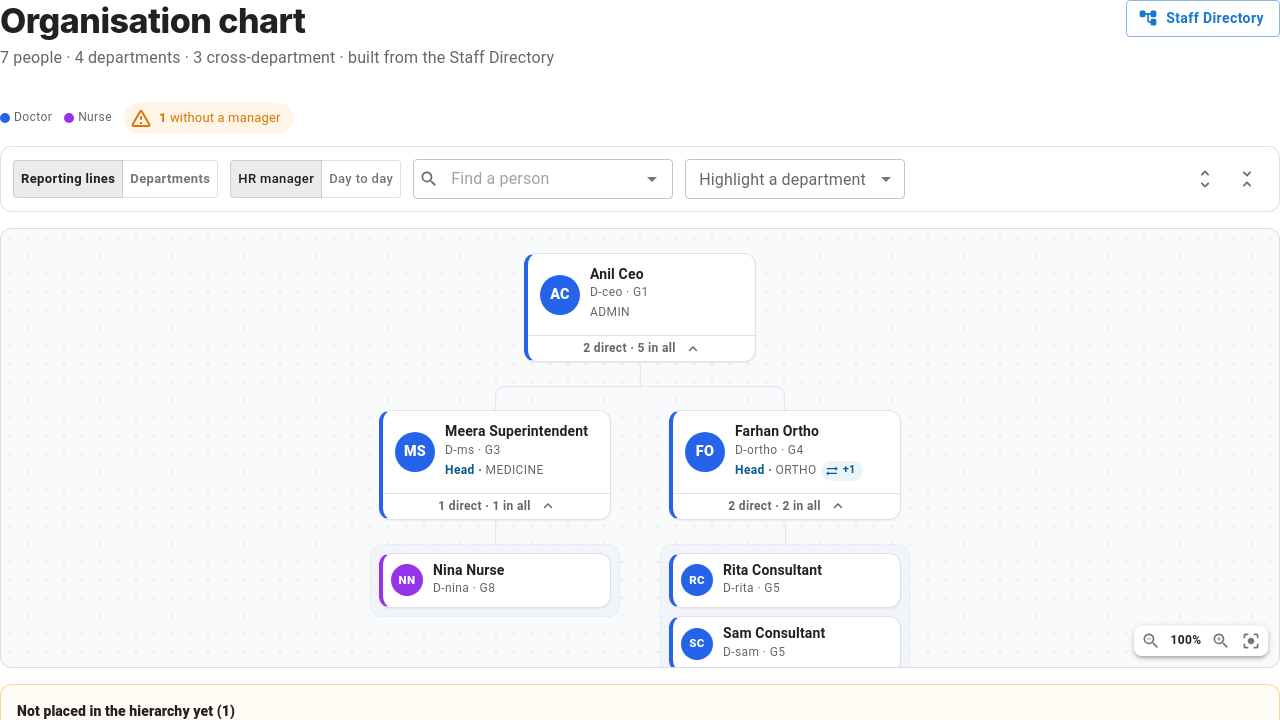
the organisation chart page › draws the chart, lists who is not placed, and finds a person
Expected: the button with aria-label "Anil Ceo, D-ceo" is shown, x1=524 y1=253 x2=756 y2=362
Expected: the heading "Not placed in the hierarchy yet (1)" is shown, x1=17 y1=703 x2=235 y2=719
# Close everything, then find Rita: the way down to her opens again.
Click the button named "Close to the tops". click: (1247, 179)
box: x1=1227 y1=159 x2=1267 y2=199
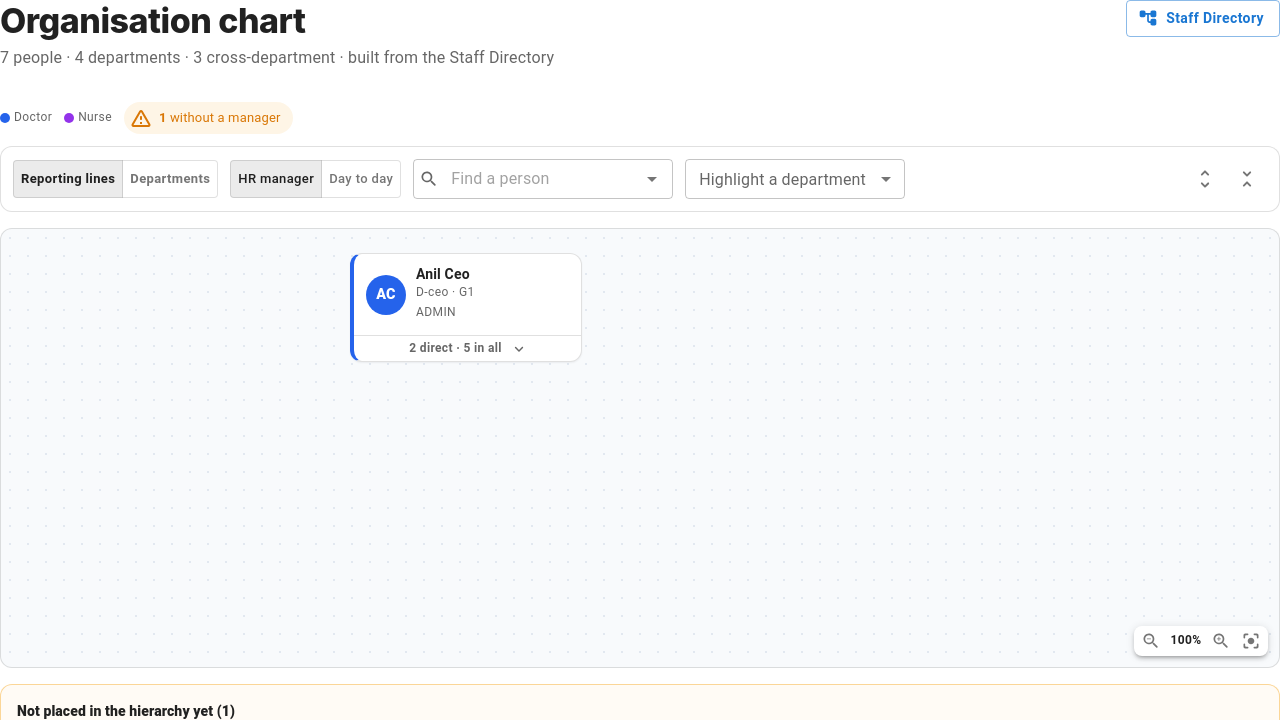
Type "Rita" into the dropdown with placeholder "Find a person". click: (539, 179)
box: x1=443 y1=165 x2=634 y2=193
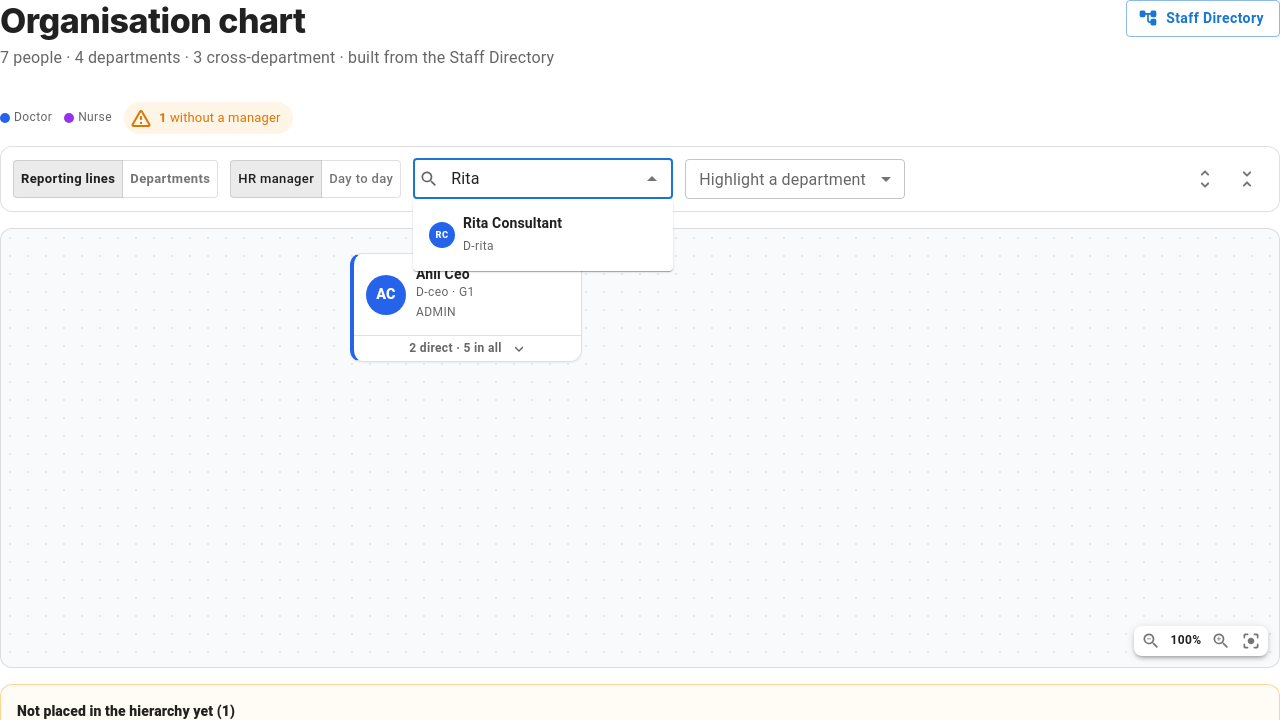
Click the option "RC Rita Consultant D-rita". click: (496, 234)
box: x1=429 y1=215 x2=562 y2=253
(page scrolled)
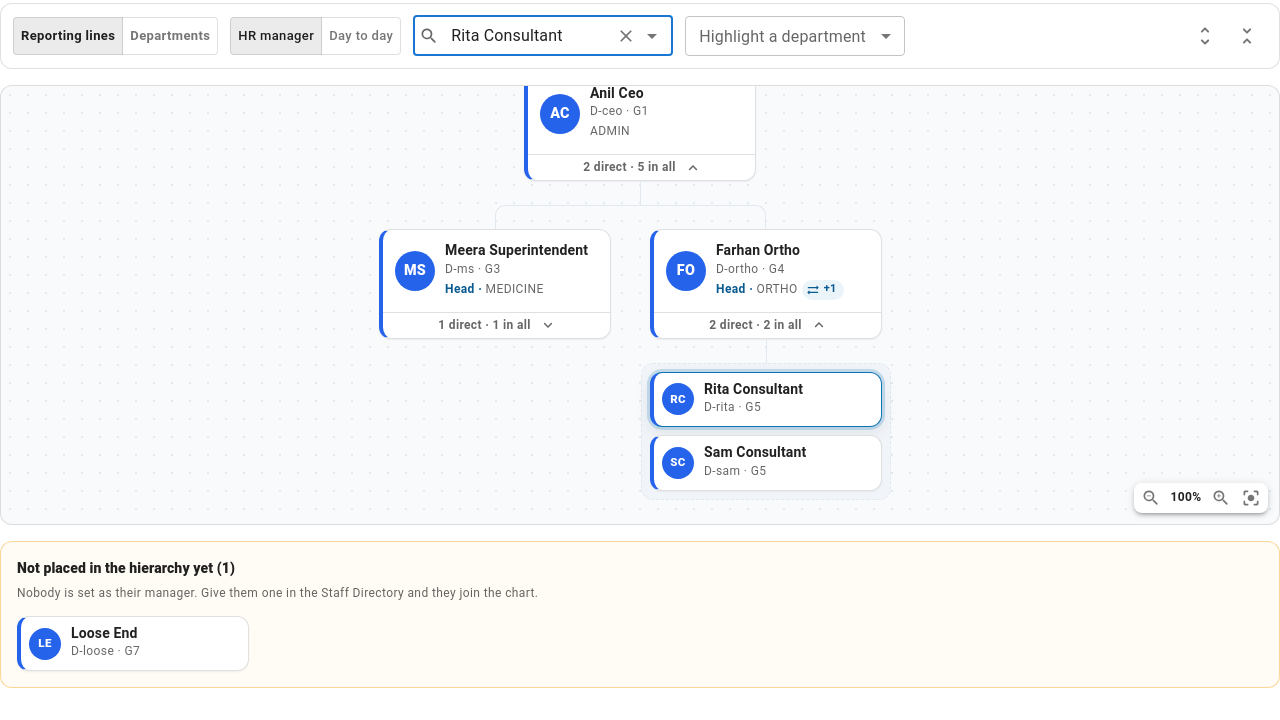
Now the button with aria-label "Rita Consultant, D-rita" is shown, box x1=650 y1=372 x2=882 y2=427
